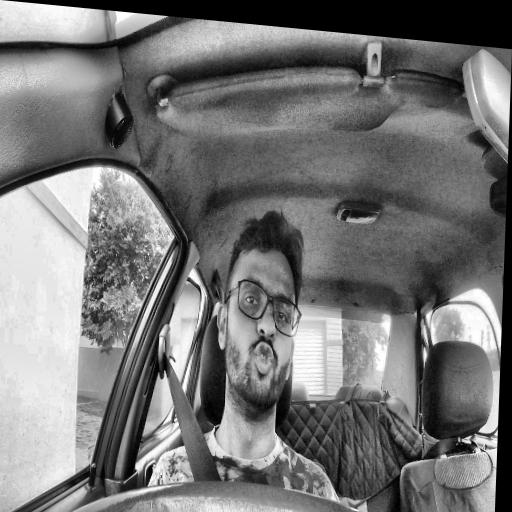awake: (213, 206, 305, 417)
